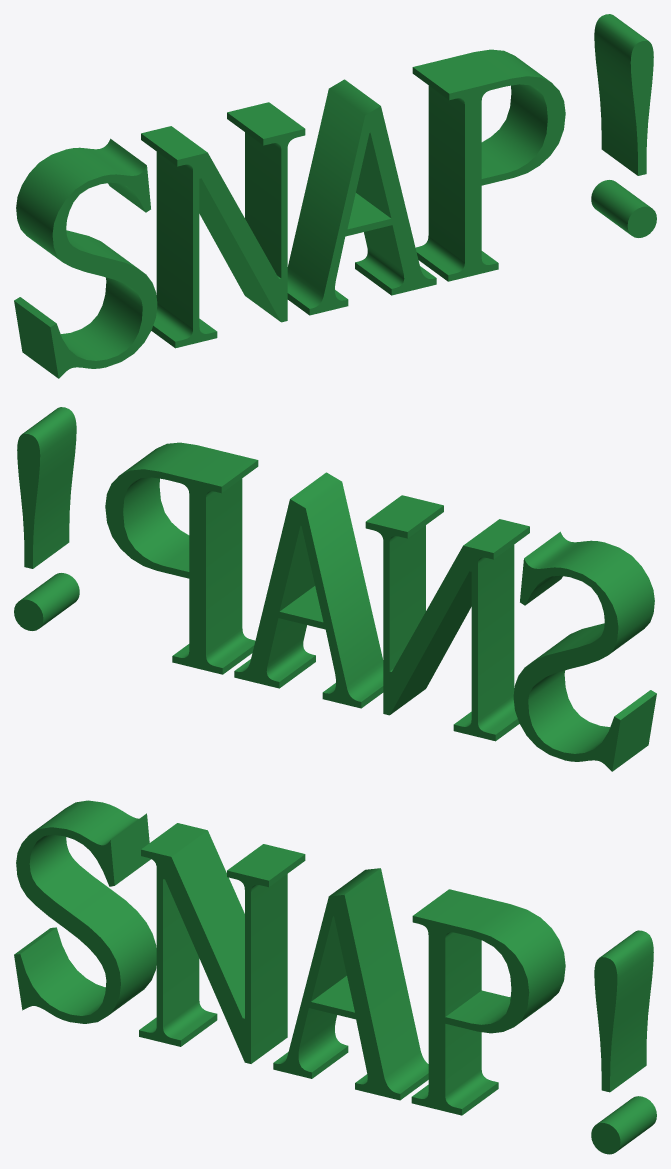
The model's file is SNAPunity.fbx.
The picture shows the model from 3 angles, top to bottom: view 1: azimuth 30°, elevation 25°; view 2: azimuth 150°, elevation 25°; view 3: azimuth 330°, elevation 25°; orthographic projection.
Parts seen in each view (by area): view 1: node_id6; view 2: node_id6; view 3: node_id6.
Part boxes in pixels (x1=…): node_id6: x1=14, y1=14, x2=656, y2=378; node_id6: x1=14, y1=407, x2=656, y2=771; node_id6: x1=14, y1=800, x2=656, y2=1154.
Size of the model in its own units: 0.512 by 0.1586 by 0.0533.
Materials: 1 (1 with a texture image).
